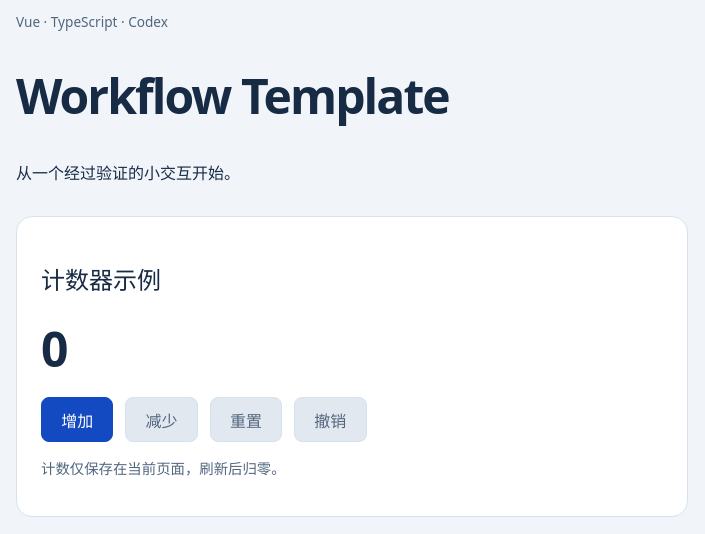
Scenario: starter counter › undoes the last increase once
expect the button "撤销" is disabled: met, box left=294, top=397, right=367, bottom=442
Click the button "增加" at (77,420), box left=41, top=397, right=113, bottom=442
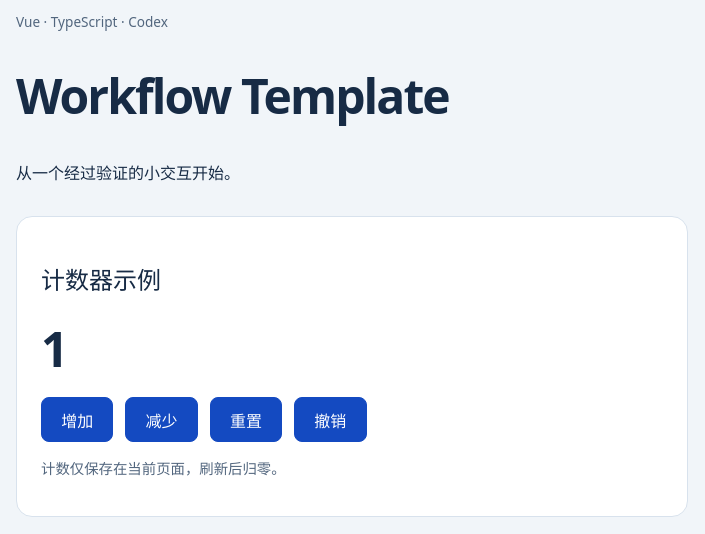
expect the text "1" is shown: met, box left=41, top=316, right=68, bottom=381
expect the button "撤销" is enabled: met
Click the button "撤销" at (330,420), box left=294, top=397, right=367, bottom=442
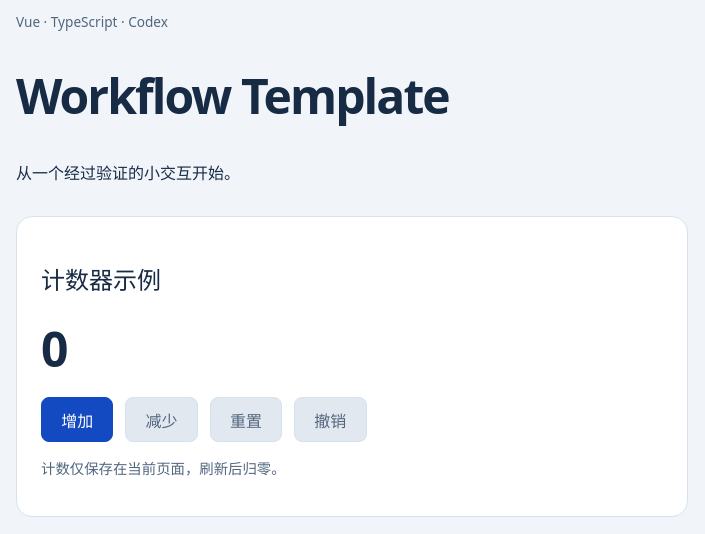
expect the text "0" is shown: met, box left=41, top=316, right=68, bottom=381
expect the button "撤销" is disabled: met, box left=294, top=397, right=367, bottom=442
